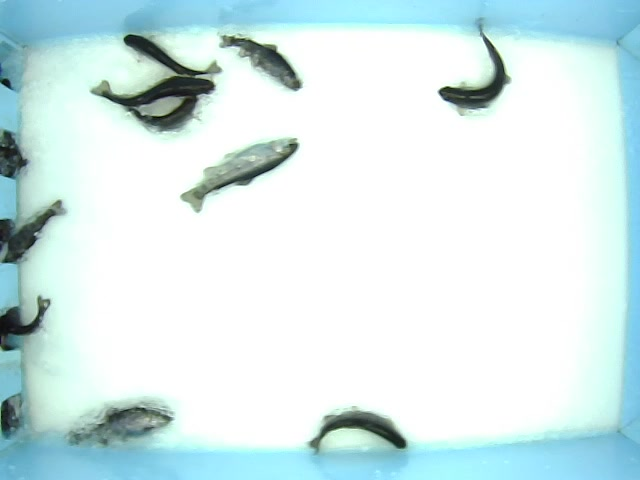fish: (178, 137, 301, 214), (436, 15, 512, 118), (66, 402, 175, 451), (217, 33, 302, 94), (120, 31, 224, 79), (306, 405, 407, 454), (89, 77, 218, 108), (120, 92, 201, 137)
